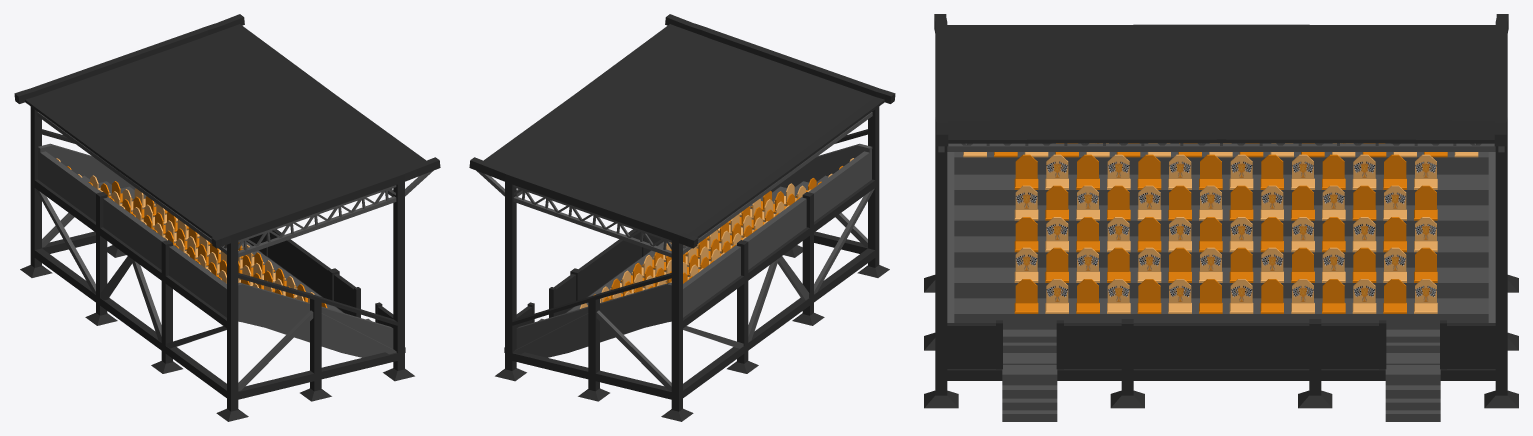
Rendered from tribune.fbx.
The picture shows the model from 3 angles, left to right: view 1: azimuth 30°, elevation 25°; view 2: azimuth 150°, elevation 25°; view 3: azimuth 270°, elevation 25°; orthographic projection. The views are drawn at different scales.
Visible parts, largest first — view 1: Cube; view 2: Cube; view 3: Cube.
Boxes of the visible parts, box(x1,y1,x2,y2) form: Cube: box(14, 14, 440, 421); Cube: box(469, 14, 895, 421); Cube: box(924, 14, 1518, 421).
Size of the model in its own units: 12.99 by 11.38 by 20.78.
Materials: 5 (1 with a texture image).
